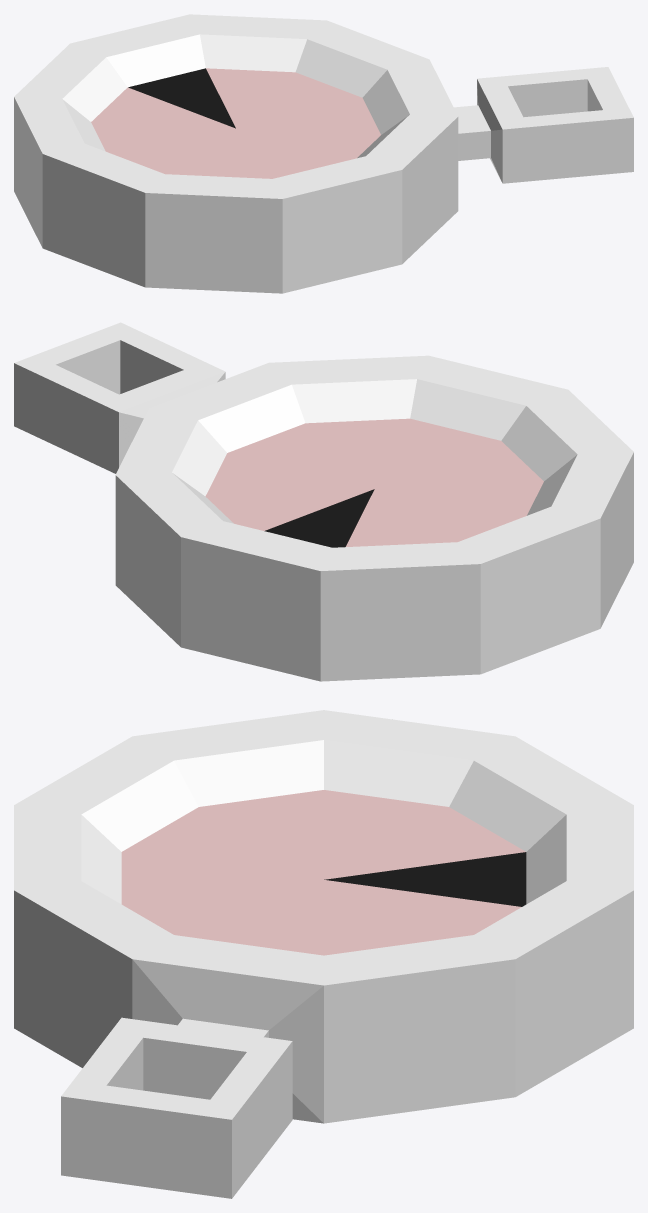
Rendered from SM_Item_Compass_01.glb.
The picture shows the model from 3 angles, top to bottom: view 1: azimuth 30°, elevation 25°; view 2: azimuth 150°, elevation 25°; view 3: azimuth 270°, elevation 25°; orthographic projection. The views are drawn at different scales.
Visible parts, largest first — view 1: SM_Item_Compass_01_00; view 2: SM_Item_Compass_01_00; view 3: SM_Item_Compass_01_00.
Boxes of the visible parts, <box> form: SM_Item_Compass_01_00: <box>14,14,633,293</box>; SM_Item_Compass_01_00: <box>14,322,633,681</box>; SM_Item_Compass_01_00: <box>14,710,633,1198</box>.
Bounding box in the file's own units: 0.1764 × 0.0299 × 0.1215.
Materials: 1 (1 with a texture image).
